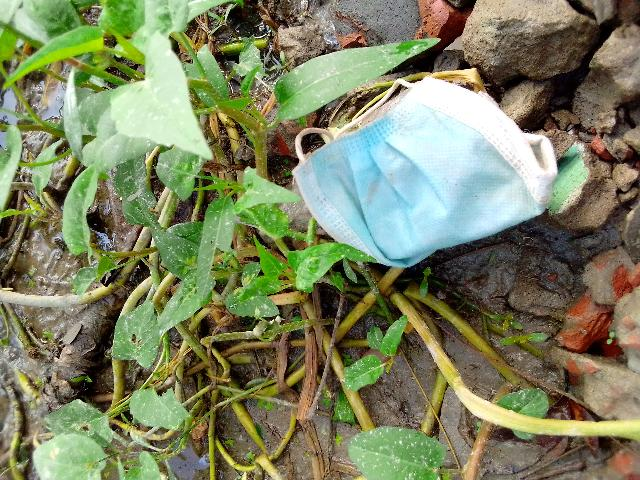mask: (297, 54, 559, 287)
